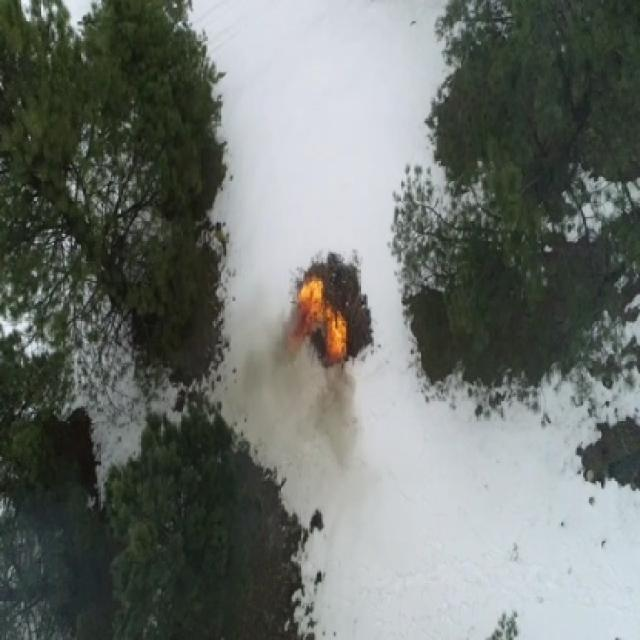Fire: (322, 299, 350, 365), (299, 277, 323, 331), (288, 330, 302, 350)
